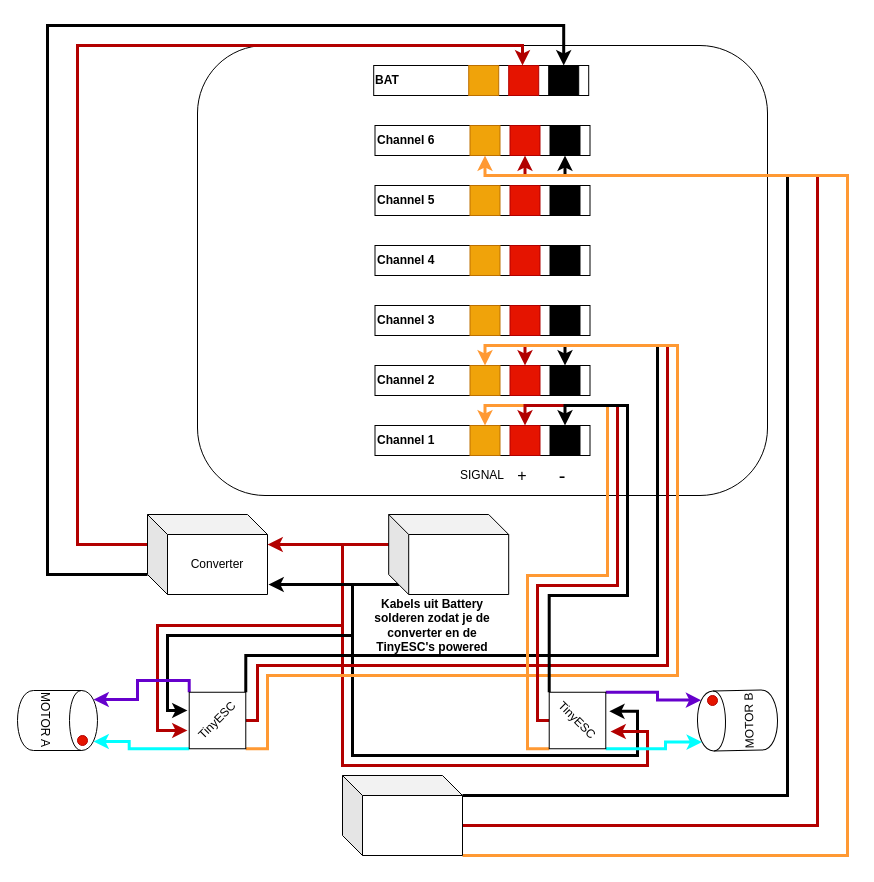
Some shapes in this 874 by 882 pixel diagram are drawn without their labels. The shapes that lost their labels are listed below. From the top down, each one's box as (x1, y1, x2, y2) in pixels, then its label:
(196, 44, 768, 496): Receiver
(388, 514, 509, 594): Battery
(342, 774, 462, 856): Servo
